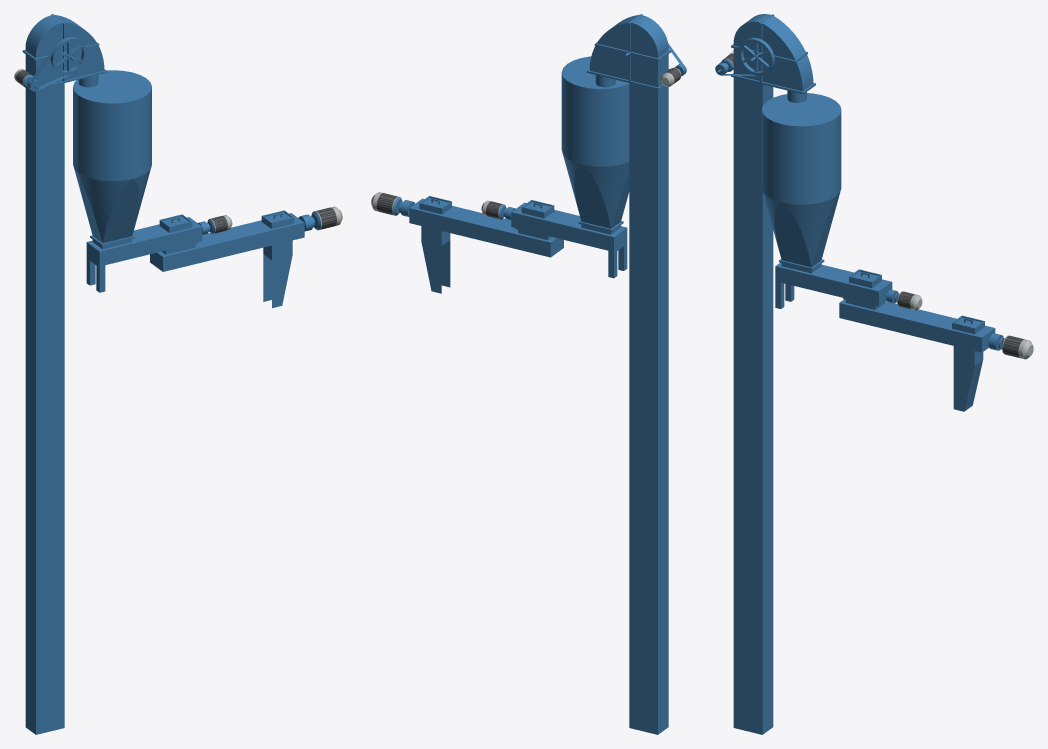
File: 致密机后输送.glb
3 renders of one model, left to right at view 1: azimuth 30°, elevation 25°; view 2: azimuth 150°, elevation 25°; view 3: azimuth 330°, elevation 25°, orthographic.
Visible parts, largest first — view 1: root; view 2: root; view 3: root.
Part boxes in pixels (bbox=[...]): root: bbox=[14, 14, 342, 734]; root: bbox=[371, 14, 686, 734]; root: bbox=[715, 14, 1033, 734].
Size of the model in its own units: 5.47 by 11.82 by 1.21.
Materials: 3 (2 with a texture image).
